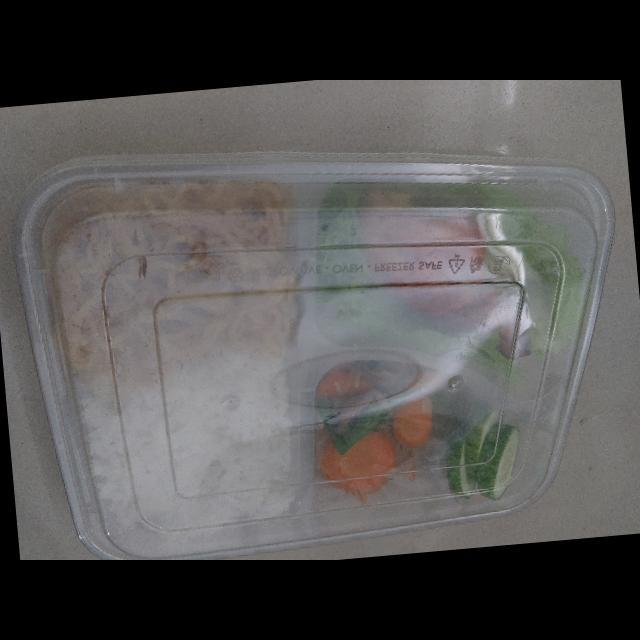bento: (15, 156, 612, 560)
